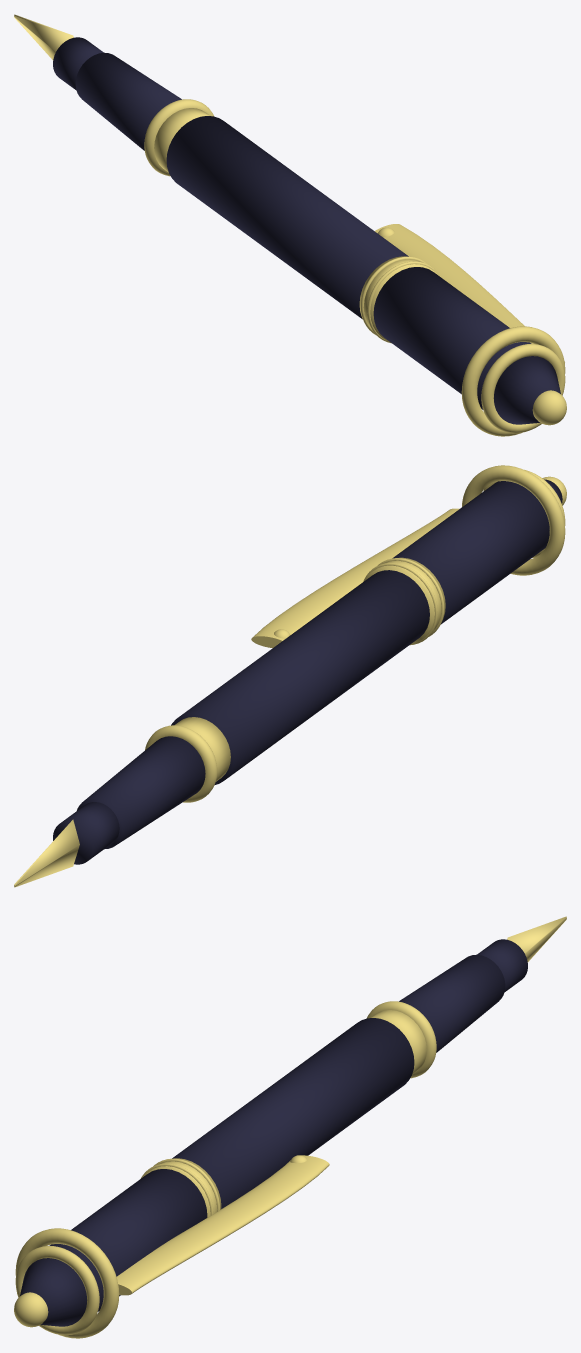
File: pen-fountain 2.glb
3 renders of one model, top to bottom at view 1: azimuth 30°, elevation 25°; view 2: azimuth 150°, elevation 25°; view 3: azimuth 330°, elevation 25°, orthographic.
Parts seen in each view (by area): view 1: FountainPen; view 2: FountainPen; view 3: FountainPen.
Boxes of the visible parts, <box> form: FountainPen: <box>14,14,566,436</box>; FountainPen: <box>14,465,566,887</box>; FountainPen: <box>14,916,566,1338</box>.
Size of the model in its own units: 0.0228 by 0.018 by 0.1667.
